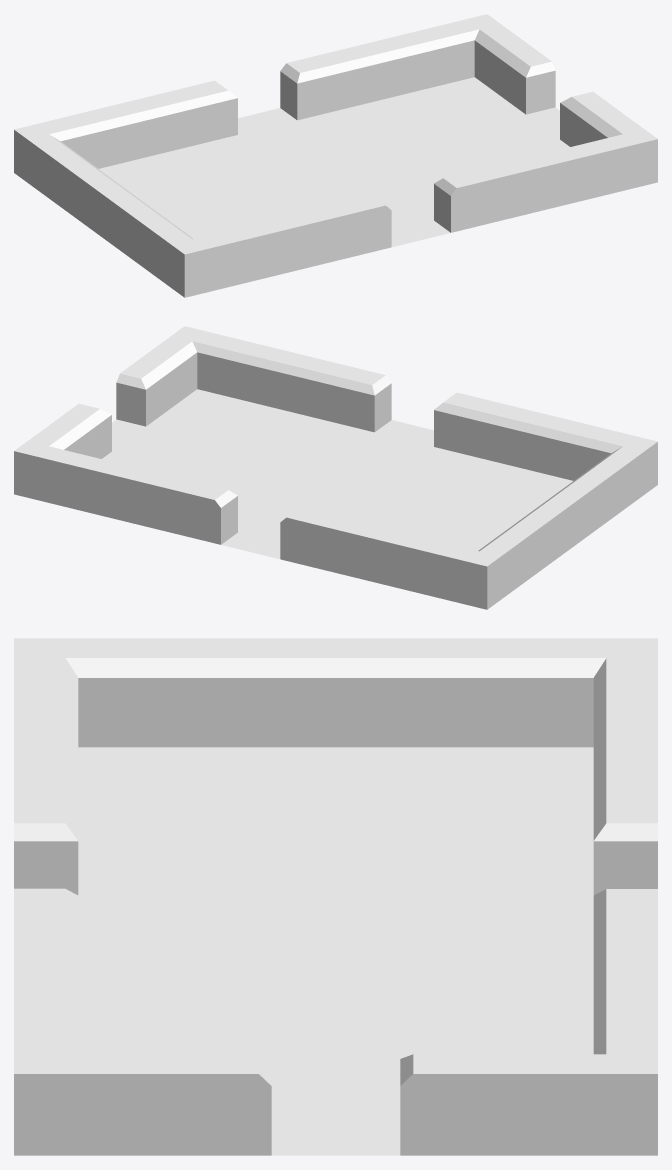
The model's file is Room25.obj.
3 views of the same model, one above another, from view 1: azimuth 30°, elevation 25°; view 2: azimuth 150°, elevation 25°; view 3: azimuth 270°, elevation 25° (orthographic). The views are drawn at different scales.
Visible parts, largest first — view 1: room_2x10; view 2: room_2x10; view 3: room_2x10.
Boxes of the visible parts, x1=… form: room_2x10: x1=14, y1=14, x2=657, y2=297; room_2x10: x1=14, y1=326, x2=657, y2=609; room_2x10: x1=14, y1=638, x2=657, y2=1155.
Size of what is drawn, in the model's own units: 80 by 7 by 50.
